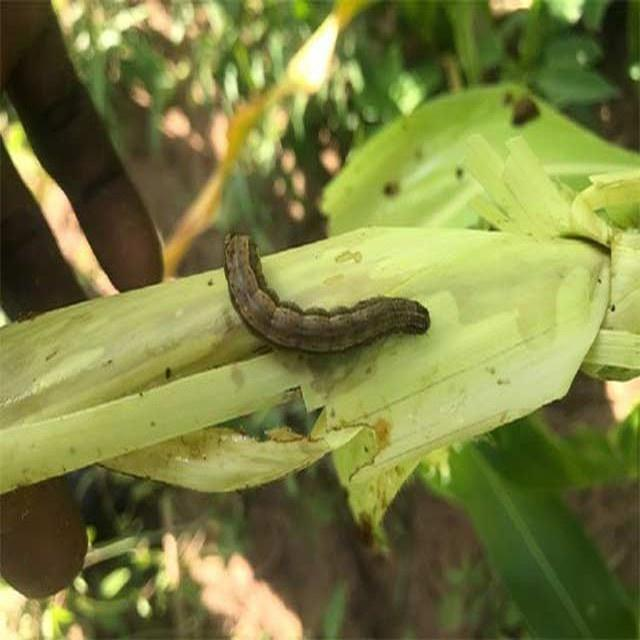yellow-stem-borer-larva: (198, 210, 451, 370)
